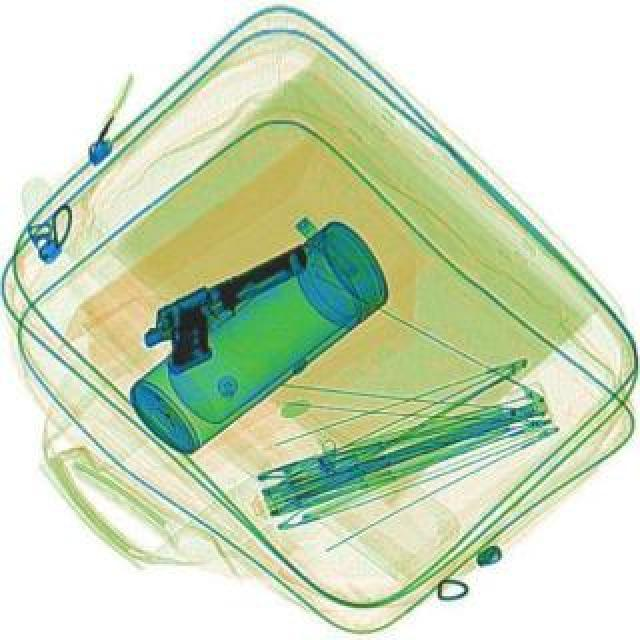gun: (128, 238, 332, 376)
